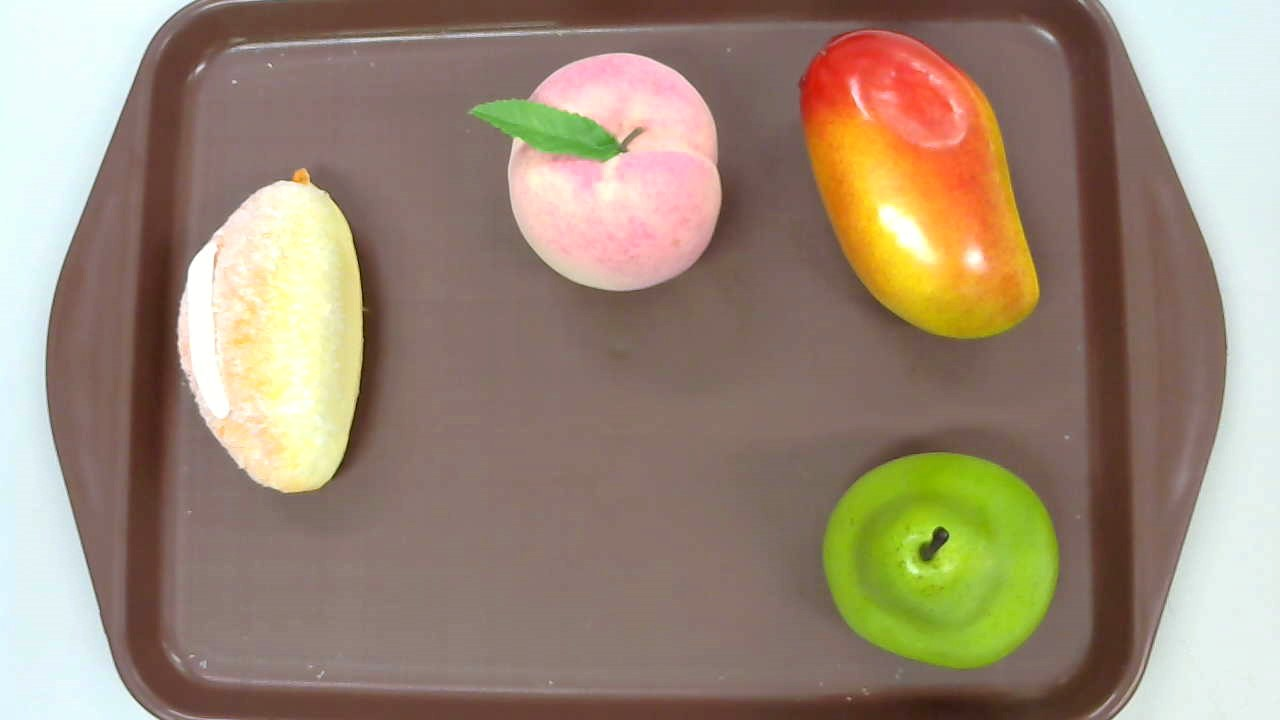coconut: (178, 167, 362, 494)
green pear: (823, 451, 1059, 668)
peach: (466, 53, 722, 294)
red mango: (796, 23, 1041, 339)
